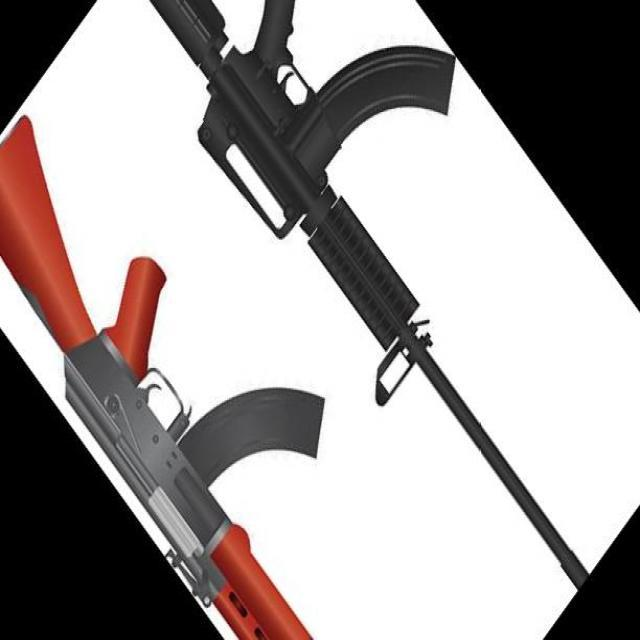weapon: (150, 1, 590, 591), (0, 114, 314, 640)
